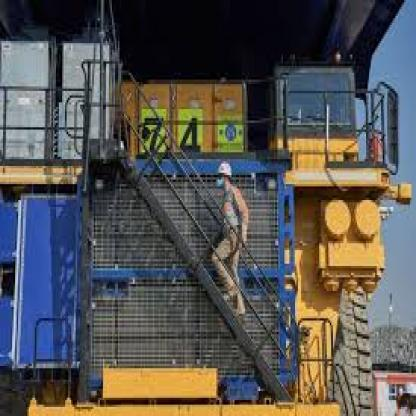person: (200, 148, 256, 309)
